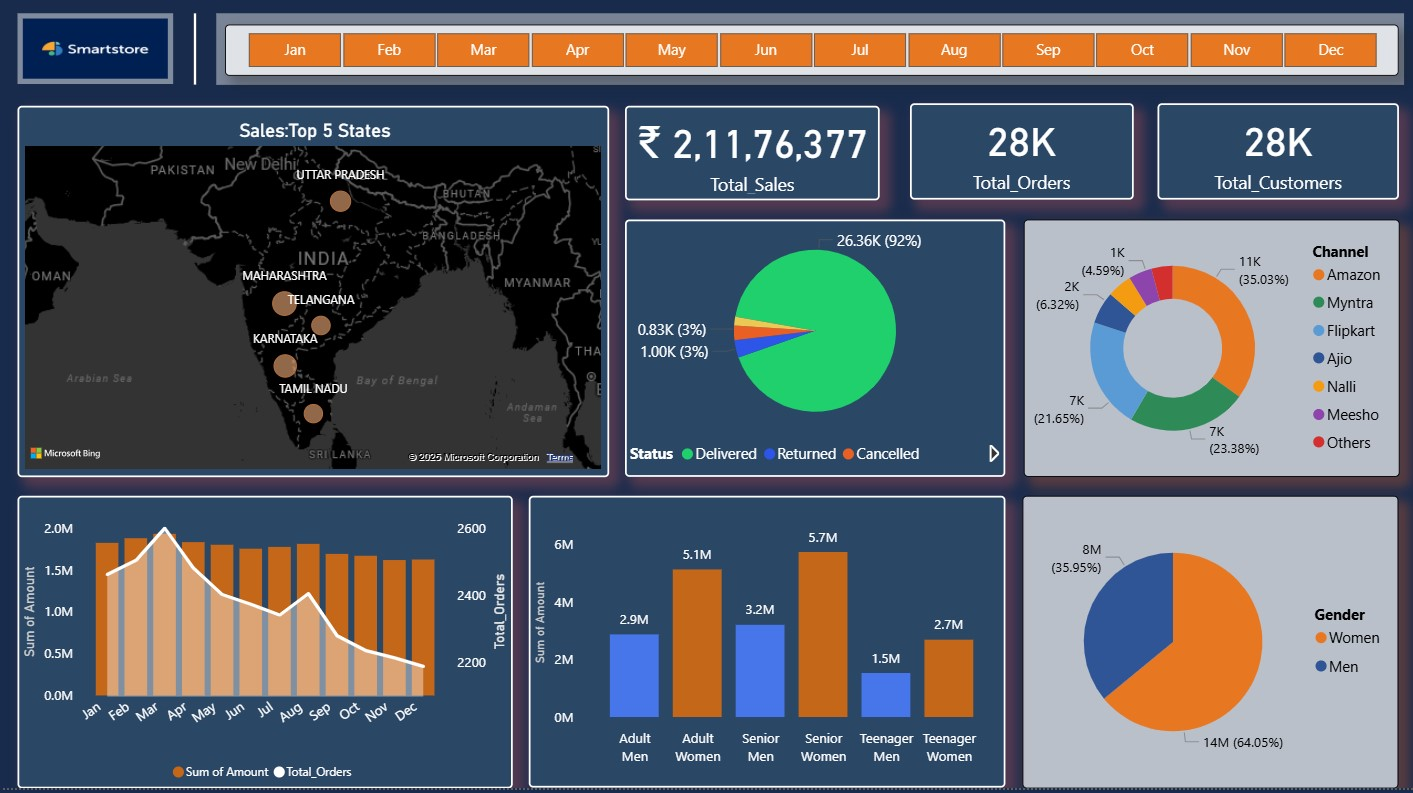

The dashboard page shown, as its layout file describes it:
{"tool":"powerbi","page":{"name":"Page 1","canvas":[1280,720],"ordinal":0},"visuals":[{"type":"textbox","box":[0,0,1280.2,47.7],"z":0},{"type":"lineClusteredColumnComboChart","title":"Orders vs Sales","fields":{"Category":["Vrinda Store.Month"],"Y":["Sum(Vrinda Store.Amount)"],"Y2":["Vrinda Store.Total Orders"]},"box":[184.9,138.4,389.5,247.7],"z":1000},{"type":"pieChart","title":"Orders Status","fields":{"Y":["Vrinda Store.Total Orders"],"Category":["Vrinda Store.Status"]},"box":[586,138.4,311.6,247.7],"z":2000},{"type":"barChart","title":"Sales: Top 5 States","fields":{"Y":["Sum(Vrinda Store.Amount)"],"Category":["Vrinda Store.ship-state"]},"box":[905.8,138.4,364,247.7],"z":3000},{"type":"pieChart","title":"Shopping: Men vs Women","fields":{"Y":["Sum(Vrinda Store.Amount)"],"Category":["Vrinda Store.Gender"]},"box":[184.9,429.1,336,247.7],"z":4000},{"type":"clusteredColumnChart","title":"Sales by age Category","fields":{"Category":["Vrinda Store.Age-category","Vrinda Store.Gender"],"Y":["Sum(Vrinda Store.Amount)"]},"box":[538.4,429.1,357,247.7],"z":5000},{"type":"pieChart","fields":{"Y":["Vrinda Store.Total Orders"],"Category":["Vrinda Store.Channel "]},"box":[905.8,429.1,364,247.7],"z":6000},{"type":"slicer","fields":{"Values":["Vrinda Store.Month"]},"box":[0,55.8,593,62.8],"z":7000},{"type":"slicer","fields":{"Values":["Vrinda Store.Gender"]},"box":[0,138.4,175.6,70.9],"z":7001},{"type":"slicer","fields":{"Values":["Vrinda Store.Age-category"]},"box":[0,218.6,175.6,73.3],"z":7002},{"type":"slicer","fields":{"Values":["Vrinda Store.Channel "]},"box":[0,305.8,175.6,68.6],"z":7003},{"type":"slicer","fields":{"Values":["Vrinda Store.Category"]},"box":[0,386,175.6,290.7],"z":7004}]}

Visuals, with their boxes in screenshot pixels (x1, y1, x2, y2), scaled from the page's 1280x720 canvas onto the 1413x793 screenshot:
textbox: x1=0 y1=0 x2=1412 y2=53
"Orders vs Sales" lineClusteredColumnComboChart: x1=204 y1=152 x2=634 y2=425
"Orders Status" pieChart: x1=647 y1=152 x2=991 y2=425
"Sales: Top 5 States" barChart: x1=1000 y1=152 x2=1402 y2=425
"Shopping: Men vs Women" pieChart: x1=204 y1=473 x2=575 y2=745
"Sales by age Category" clusteredColumnChart: x1=594 y1=473 x2=988 y2=745
pieChart - Vrinda Store.Total Orders x Vrinda Store.Channel : x1=1000 y1=473 x2=1402 y2=745
slicer - Vrinda Store.Month: x1=0 y1=61 x2=655 y2=131
slicer - Vrinda Store.Gender: x1=0 y1=152 x2=194 y2=231
slicer - Vrinda Store.Age-category: x1=0 y1=241 x2=194 y2=321
slicer - Vrinda Store.Channel : x1=0 y1=337 x2=194 y2=412
slicer - Vrinda Store.Category: x1=0 y1=425 x2=194 y2=745
